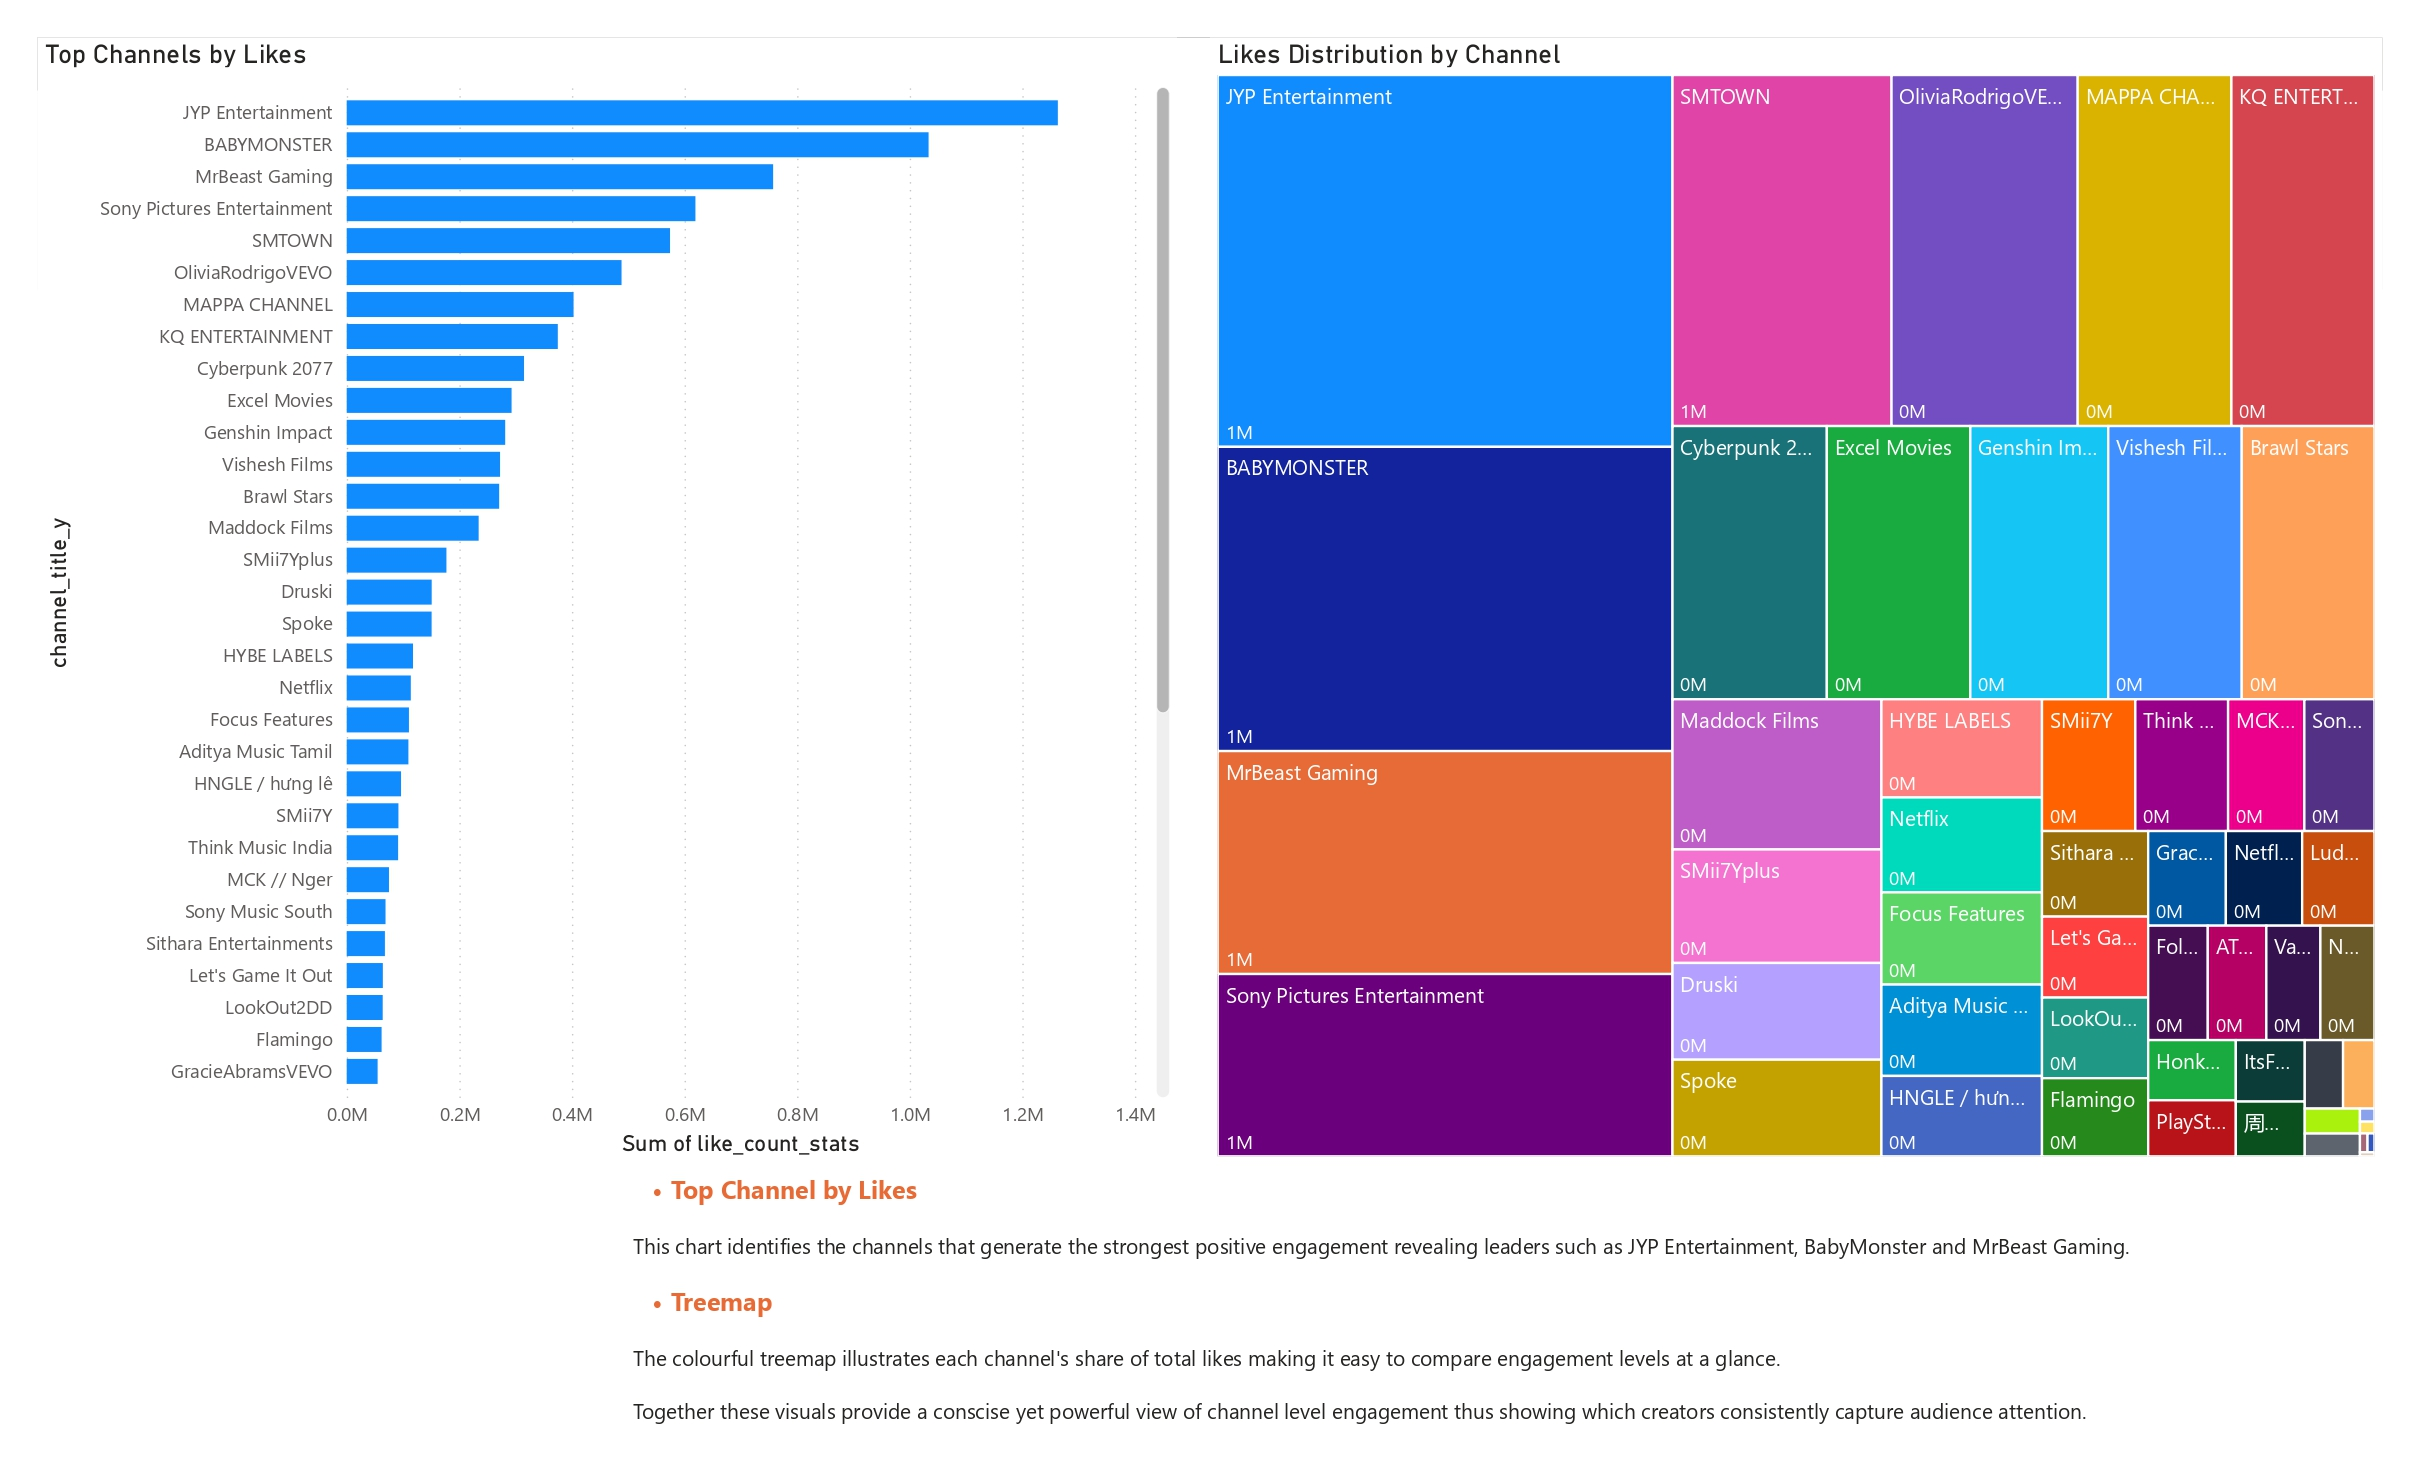

Layout of this report page (visuals, bound fields, positions):
{"tool":"powerbi","page":{"name":"Channel Engagement Overview","canvas":[1500,901],"ordinal":2},"visuals":[{"type":"clusteredBarChart","title":"Top Channels by Likes","fields":{"Category":["final_analytics.channel_title_y"],"Y":["Sum(final_analytics.like_count_stats)"]},"box":[0,0,729,721],"z":0},{"type":"treemap","title":"Likes Distribution by Channel","fields":{"Group":["final_analytics.channel_title_y"],"Values":["Sum(final_analytics.like_count_stats)"]},"box":[750,0,750,720.6],"z":1000},{"type":"textbox","box":[375.8,721,993.5,179],"z":1001}]}

Visuals, with their boxes on the page's 1500x901 design canvas (x1, y1, x2, y2). These are canvas units, not pixel positions in the 2420x1484 screenshot, which may show the page scaled, cropped or inside an application window:
"Top Channels by Likes" clusteredBarChart: 0 0 729 721
"Likes Distribution by Channel" treemap: 750 0 1500 721
textbox: 376 721 1369 900
